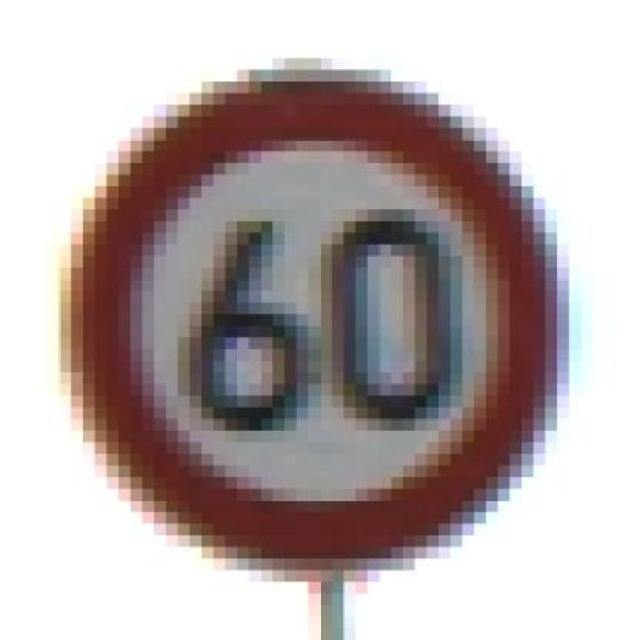forb_speed_over_60: (84, 79, 548, 566)
